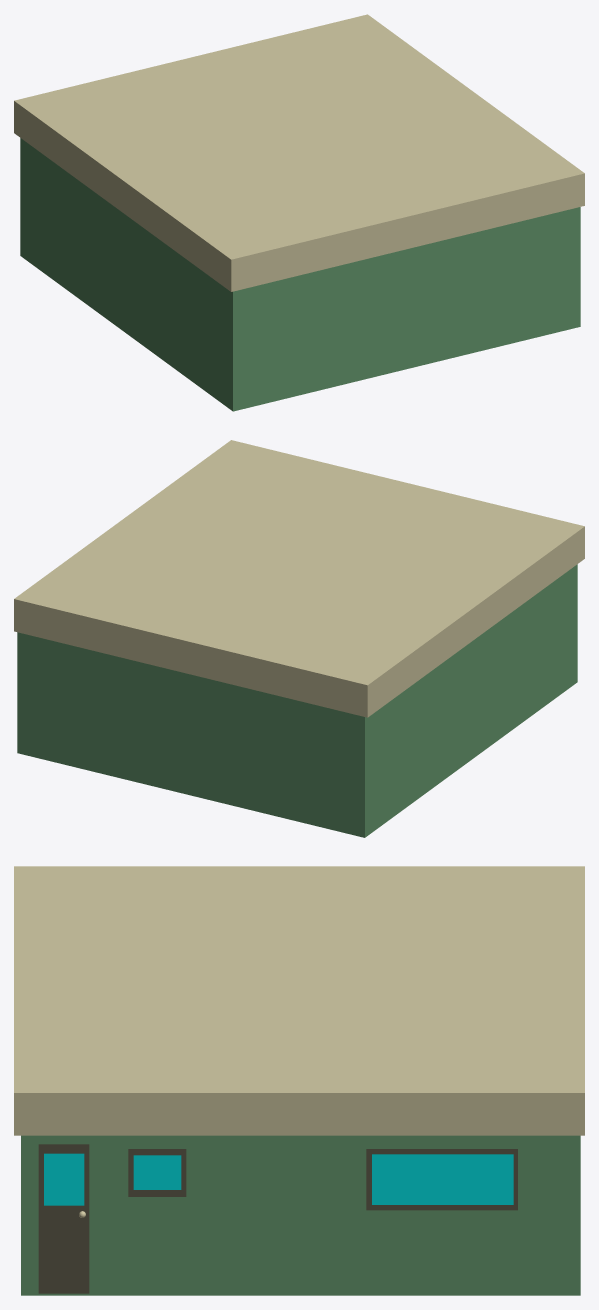
The model's file is house11.fbx.
3 renders of one model, top to bottom at view 1: azimuth 30°, elevation 25°; view 2: azimuth 150°, elevation 25°; view 3: azimuth 270°, elevation 25°, orthographic. The views are drawn at different scales.
Parts seen in each view (by area): view 1: house11; view 2: house11; view 3: house11.
Boxes of the visible parts, x1,y1,x2,y2 form: house11: (14, 14, 584, 411); house11: (14, 440, 584, 837); house11: (14, 866, 584, 1295).
Size of the model in its own units: 295 by 123 by 312.
